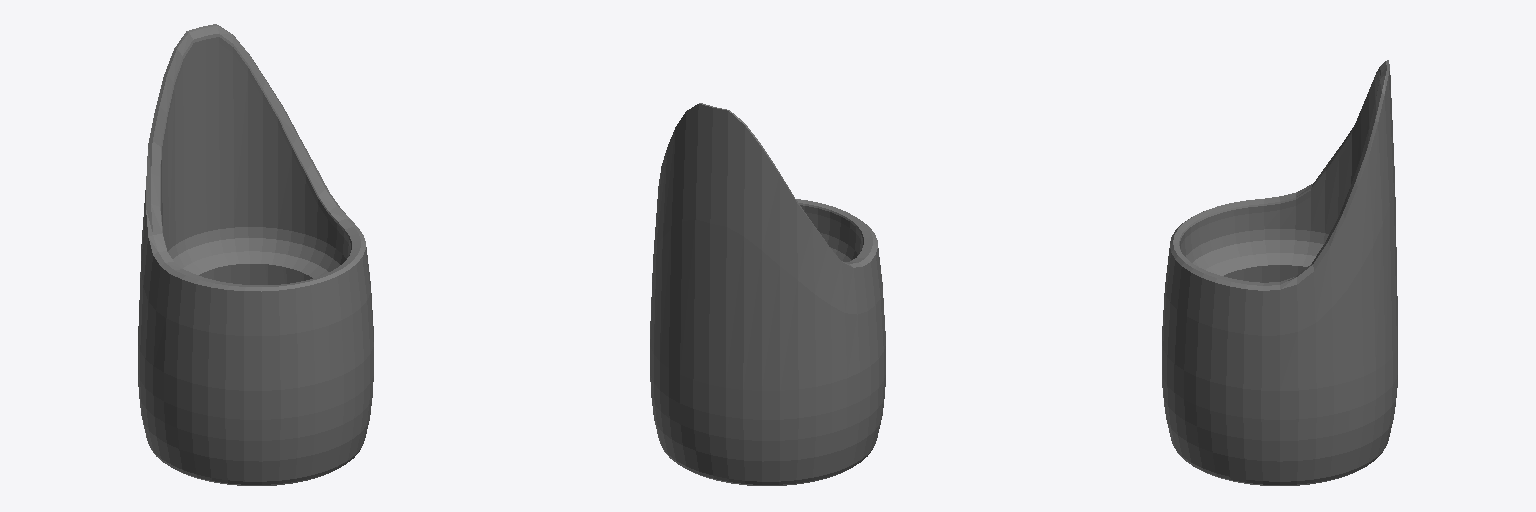
Rendered from Robo_Wrist.obj.
The picture shows the model from 3 angles: view 1: azimuth 30°, elevation 25°; view 2: azimuth 150°, elevation 25°; view 3: azimuth 270°, elevation 25°; orthographic projection.
Parts seen in each view (by area): view 1: pCylinder576; view 2: pCylinder576; view 3: pCylinder576.
Boxes of the visible parts, box(x1,y1,x2,y2) form: pCylinder576: box(138, 24, 373, 485); pCylinder576: box(650, 103, 885, 485); pCylinder576: box(1162, 60, 1397, 485).
Size of the model in its own units: 0.3719 by 0.6539 by 0.3719.